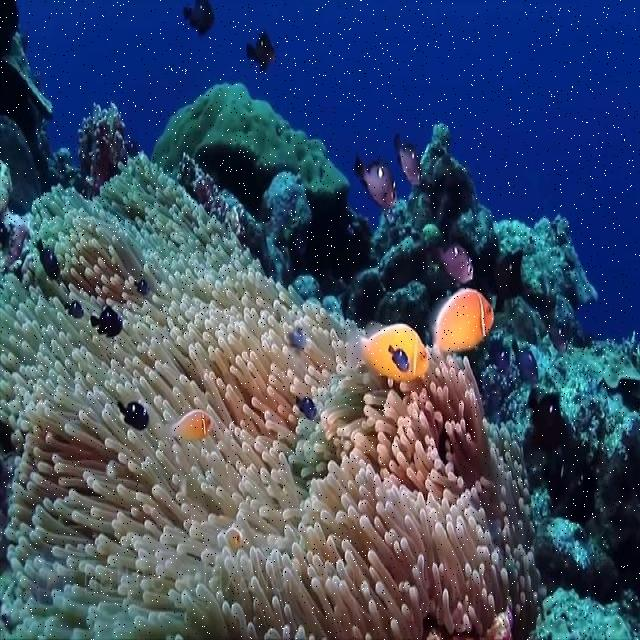fish: (346, 323, 430, 381), (434, 289, 497, 352), (355, 154, 395, 209), (394, 133, 424, 192), (156, 411, 212, 441), (433, 242, 475, 281), (89, 305, 125, 336), (116, 402, 150, 432), (36, 240, 58, 279), (388, 343, 409, 372)
reefs: (2, 152, 548, 639)
